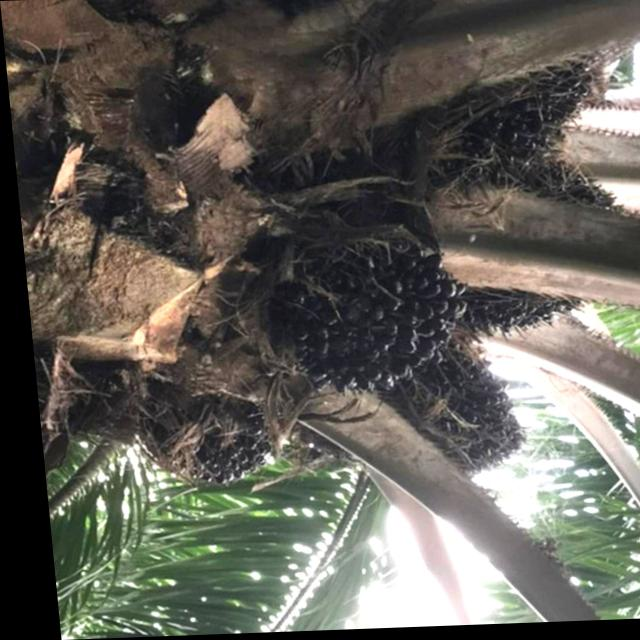almost: (265, 198, 473, 401), (452, 166, 639, 336), (424, 55, 602, 186), (385, 340, 524, 482), (131, 378, 274, 493)
